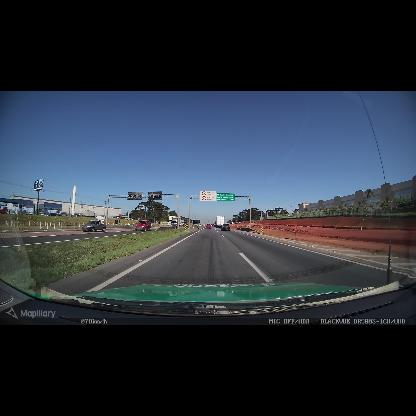O-MP: (184, 224, 187, 230), (261, 226, 263, 232)
R-19: (199, 191, 216, 202)
